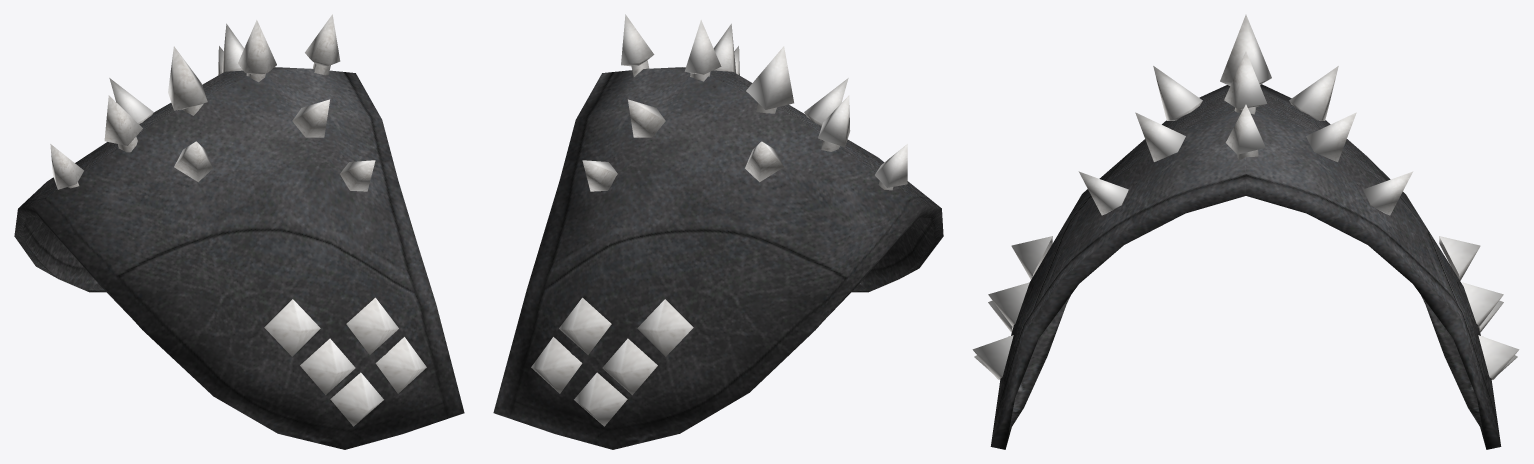
The model's file is SpikedMask_Ground.fbx.
3 renders of one model, left to right at view 1: azimuth 30°, elevation 25°; view 2: azimuth 150°, elevation 25°; view 3: azimuth 270°, elevation 25°, orthographic. The views are drawn at different scales.
Parts seen in each view (by area): view 1: 24_mask_0.3_0_0; view 2: 24_mask_0.3_0_0; view 3: 24_mask_0.3_0_0.
Boxes of the visible parts, x1,y1,x2,y2 form: 24_mask_0.3_0_0: [14, 14, 464, 449]; 24_mask_0.3_0_0: [493, 14, 943, 449]; 24_mask_0.3_0_0: [972, 14, 1519, 449].
Bounding box in the file's own units: 0.0833 × 0.085 × 0.1147.
